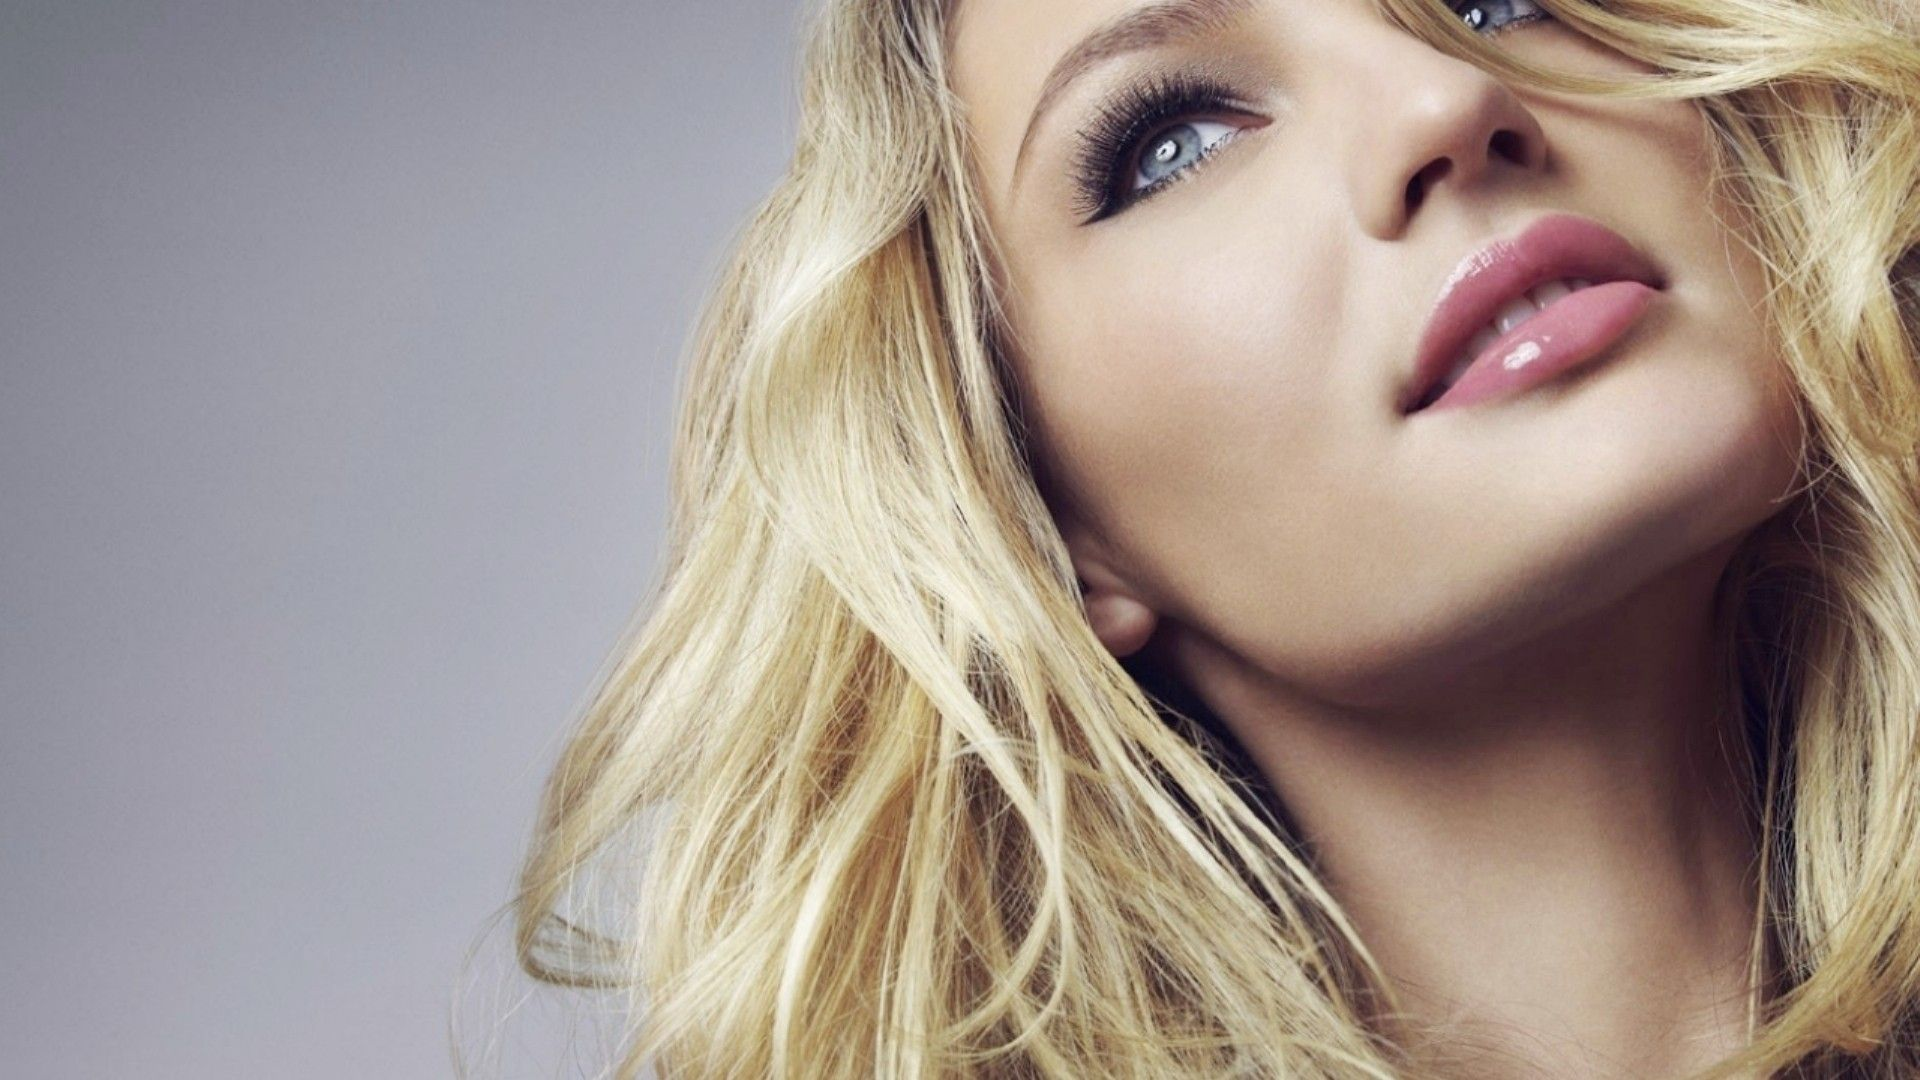person: (702, 46, 1866, 913)
